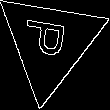P_E: (23, 20, 77, 65)
